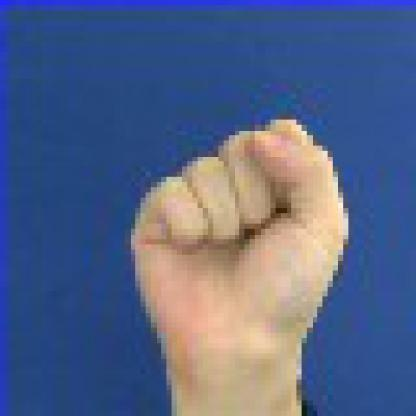zero: (87, 69, 383, 403)
